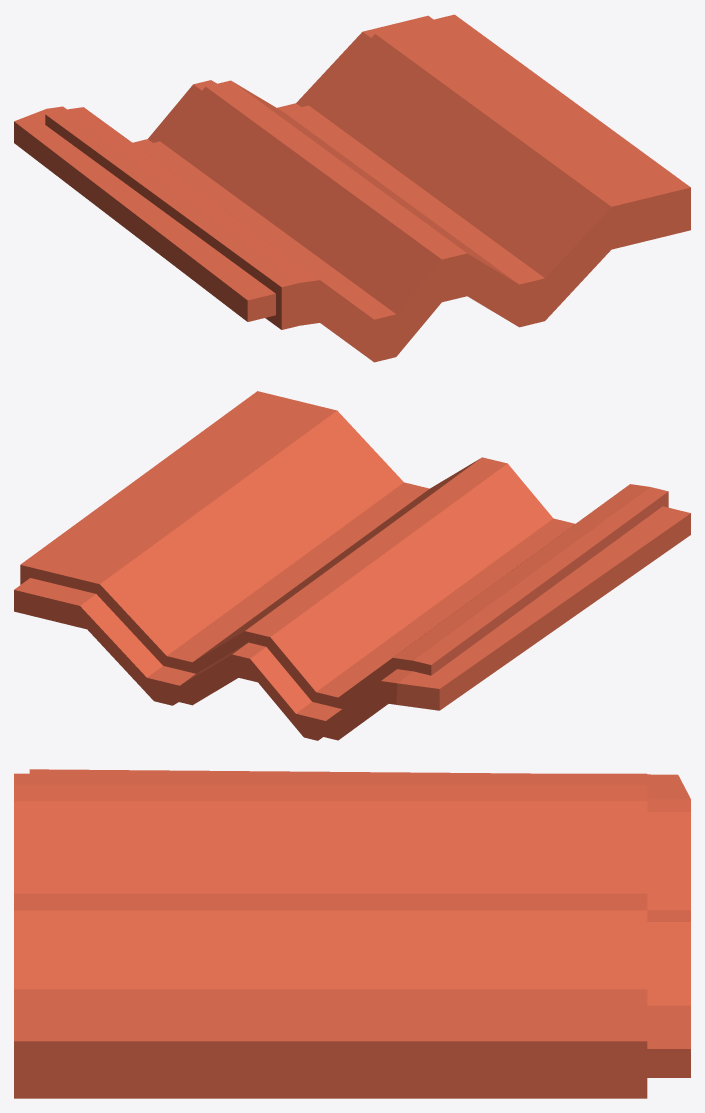
Rendered from Rooftile2.fbx.
3 views of the same model, one above another, from view 1: azimuth 30°, elevation 25°; view 2: azimuth 150°, elevation 25°; view 3: azimuth 270°, elevation 25° (orthographic). The views are drawn at different scales.
Parts seen in each view (by area): view 1: Cube; view 2: Cube; view 3: Cube.
Part boxes in pixels (x1=…): Cube: x1=14, y1=14, x2=690, y2=362; Cube: x1=14, y1=391, x2=690, y2=740; Cube: x1=14, y1=769, x2=690, y2=1098.
Size of the model in its own units: 214 by 45.79 by 214.
